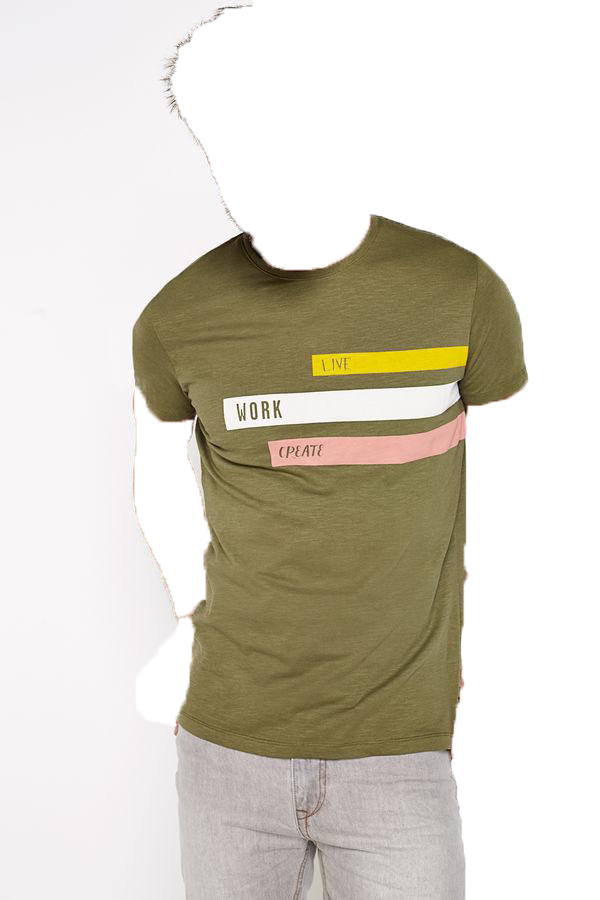teeshirt: (123, 214, 524, 764)
